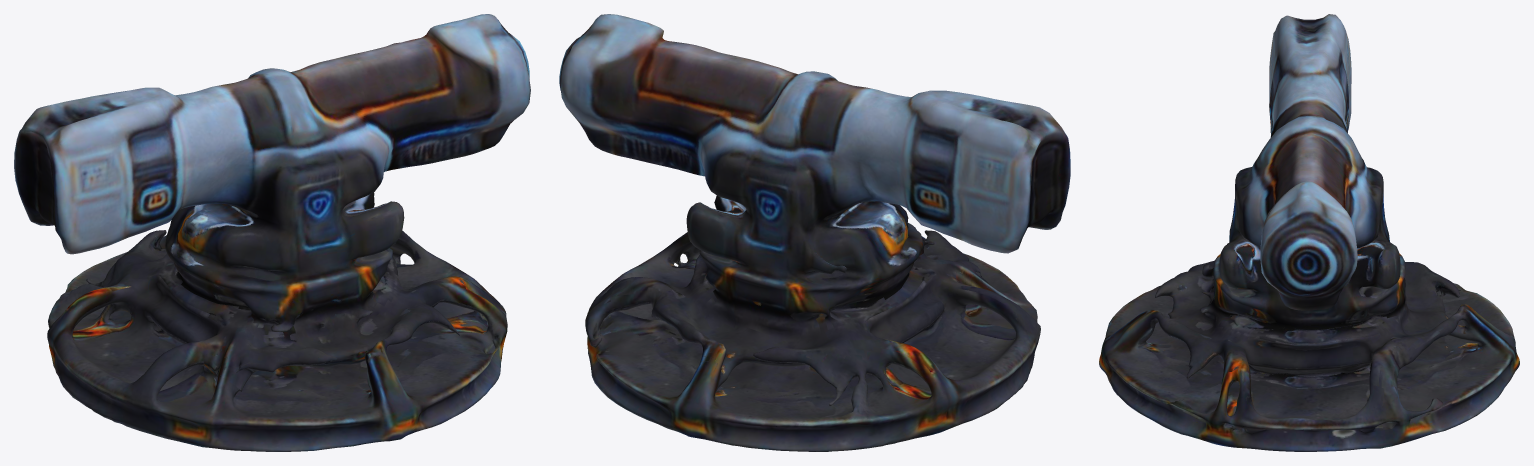
The model's file is charge-cannon.glb.
3 views of the same model, side by side, from view 1: azimuth 30°, elevation 25°; view 2: azimuth 150°, elevation 25°; view 3: azimuth 270°, elevation 25° (orthographic). The views are drawn at different scales.
Visible parts, largest first — view 1: mesh; view 2: mesh; view 3: mesh.
Boxes of the visible parts, x1,y1,x2,y2 form: mesh: (14,14,530,451); mesh: (559,14,1070,451); mesh: (1099,14,1519,451).
Bounding box in the file's own units: 0.9983 × 0.5925 × 0.8544.
1 material, 1 textured.
